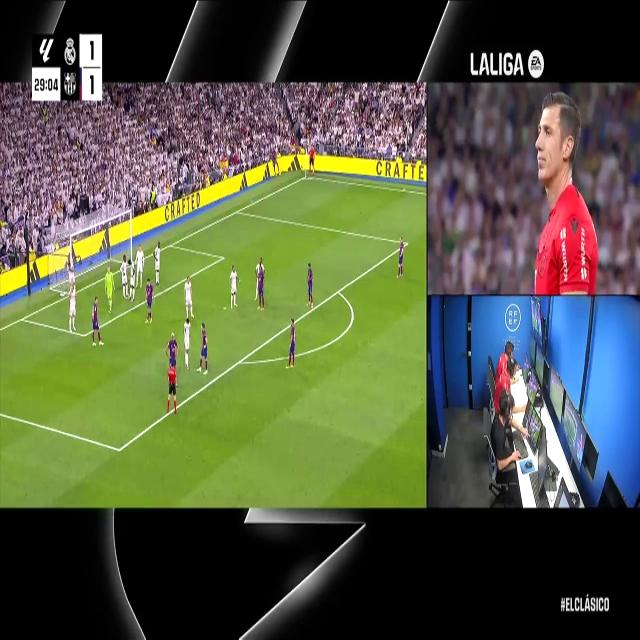bigarea_bottom_inner: (114, 438, 124, 461)
bigarea_top_inner: (403, 236, 409, 250)
bigarea_top_outter: (234, 204, 242, 216)
bottom_arc_area_intersection: (236, 352, 245, 370)
smallarea_bottom_inner: (81, 326, 88, 343)
smallarea_bottom_outter: (19, 310, 27, 326)
smallarea_top_inner: (220, 251, 224, 263)
smallarea_top_outter: (168, 239, 174, 251)
top_arc_area_intersection: (334, 282, 342, 298)
